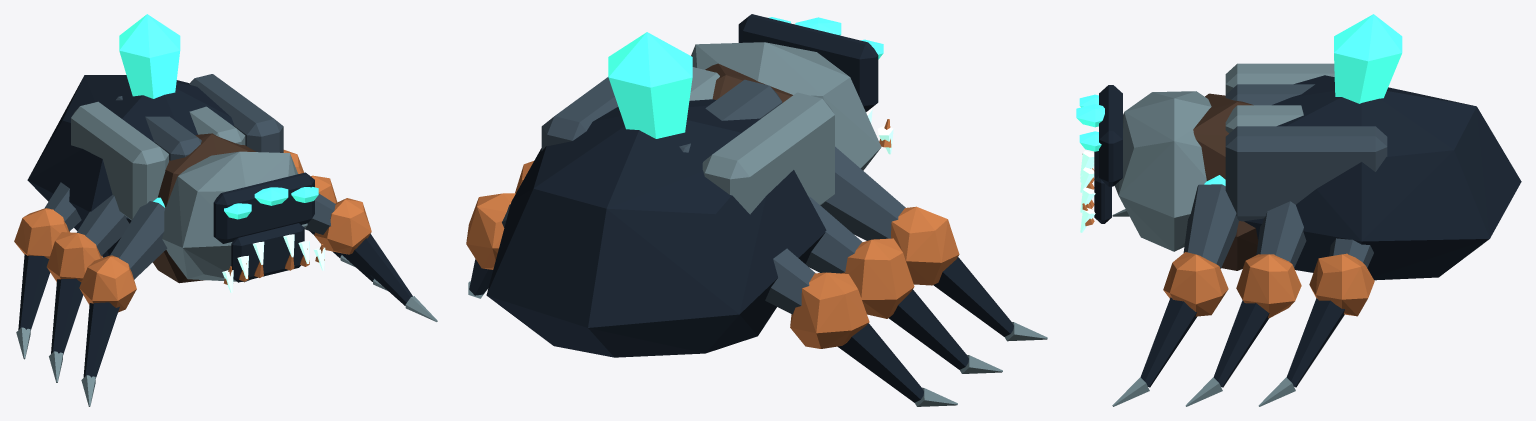
Rendered from Rift_Crawler.gltf.
The picture shows the model from 3 angles, left to right: view 1: azimuth 30°, elevation 25°; view 2: azimuth 150°, elevation 25°; view 3: azimuth 270°, elevation 25°; orthographic projection. The views are drawn at different scales.
Parts seen in each view (by area): view 1: Carapace_Plate_Mesh (×4), Abdomen_Mesh, Knee_Knot_Mesh (×5), Skull_Mesh, Hooked_Shin_Mesh (×4), Armoured_Femur_Mesh (×4), Dorsal_Shard_Mesh, Eye_Socket_Mesh, Mouth_Cavity_Mesh, Thorax_Mesh, Cluster_Eye_Mesh; view 2: Abdomen_Mesh, Carapace_Plate_Mesh (×4), Knee_Knot_Mesh (×4), Skull_Mesh, Armoured_Femur_Mesh (×3), Hooked_Shin_Mesh (×4), Dorsal_Shard_Mesh, Eye_Socket_Mesh, Thorax_Mesh; view 3: Abdomen_Mesh, Carapace_Plate_Mesh (×4), Skull_Mesh, Knee_Knot_Mesh (×3), Hooked_Shin_Mesh (×3), Armoured_Femur_Mesh (×3), Dorsal_Shard_Mesh, Thorax_Mesh, Eye_Socket_Mesh, Foot_Hook_Mesh (×3), Mouth_Cavity_Mesh, Cluster_Eye_Mesh.
Boxes of the visible parts, x1,y1,x2,y2 form: Carapace_Plate_Mesh (×4): (71,74,283,220); Abdomen_Mesh: (27,75,233,257); Knee_Knot_Mesh (×5): (14,175,371,312); Skull_Mesh: (162,151,307,282); Hooked_Shin_Mesh (×4): (18,234,412,378); Armoured_Femur_Mesh (×4): (44,182,335,279); Dorsal_Shard_Mesh: (119,14,180,98); Eye_Socket_Mesh: (213,172,314,243); Mouth_Cavity_Mesh: (231,223,304,282); Thorax_Mesh: (153,133,255,283); Cluster_Eye_Mesh: (254,187,288,205); Abdomen_Mesh: (486,99,826,357); Carapace_Plate_Mesh (×4): (541,67,834,214); Knee_Knot_Mesh (×4): (466,193,959,348); Skull_Mesh: (691,42,881,170); Armoured_Femur_Mesh (×3): (765,146,905,314); Hooked_Shin_Mesh (×4): (469,257,1013,402); Dorsal_Shard_Mesh: (608,32,692,138); Eye_Socket_Mesh: (738,14,878,111); Thorax_Mesh: (705,63,792,102); Abdomen_Mesh: (1244,75,1521,280); Carapace_Plate_Mesh (×4): (1225,63,1387,221); Skull_Mesh: (1114,91,1211,251); Knee_Knot_Mesh (×3): (1163,252,1374,318); Hooked_Shin_Mesh (×3): (1140,297,1344,387); Armoured_Femur_Mesh (×3): (1183,184,1373,268); Dorsal_Shard_Mesh: (1334,14,1402,103); Thorax_Mesh: (1193,93,1258,270); Eye_Socket_Mesh: (1099,85,1122,186); Foot_Hook_Mesh (×3): (1112,377,1295,406); Mouth_Cavity_Mesh: (1094,151,1111,223); Cluster_Eye_Mesh: (1076,104,1104,127).
Size of the model in its own units: 2.29 by 1.66 by 2.25.
